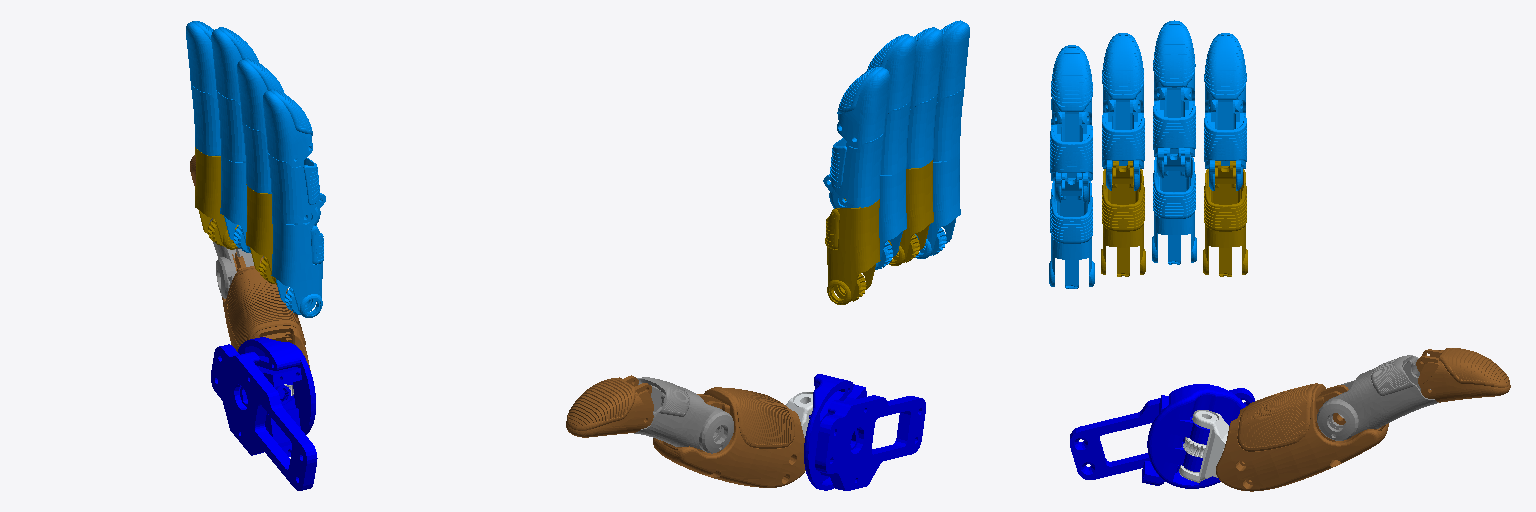
--- What the picture shows (computed from the rendered views, not written in the file) ---
Views: 3 orthographic renders of the robot side by side, from view 1: azimuth 30°, elevation 25°; view 2: azimuth 150°, elevation 25°; view 3: azimuth 270°, elevation 25°.
Robot: linkerhand_O7_right.urdf — 18 links, 17 joints (17 revolute); root link hand_base_link; default pose: all joints at 0.
Links seen in each view (by area): view 1: thumb_metacarpals_base1, thumb_metacarpals, pinky_proximal, pinky_middle, pinky_distal, index_proximal, middle_proximal, ring_proximal, ring_distal, middle_distal, index_distal, index_middle (+3 smaller); view 2: thumb_metacarpals_base1, thumb_metacarpals, index_proximal, thumb_proximal, thumb_distal, index_middle, index_distal, ring_proximal, pinky_proximal, middle_proximal, middle_distal, pinky_distal (+5 smaller); view 3: thumb_metacarpals, thumb_metacarpals_base1, thumb_proximal, thumb_distal, pinky_proximal, middle_proximal, index_proximal, ring_proximal, pinky_middle, index_middle, ring_middle, middle_middle (+5 smaller).
Boxes of the visible links, x1,y1,x2,y2 form: thumb_metacarpals_base1: (211, 337, 317, 490); thumb_metacarpals: (222, 252, 310, 370); pinky_proximal: (271, 216, 323, 317); pinky_middle: (268, 153, 325, 225); pinky_distal: (263, 89, 312, 167); index_proximal: (195, 147, 238, 249); middle_proximal: (220, 154, 250, 252); ring_proximal: (246, 184, 276, 284); ring_distal: (237, 58, 284, 135); middle_distal: (211, 27, 258, 104); index_distal: (186, 21, 216, 98); index_middle: (191, 85, 220, 155); thumb_metacarpals_base1: (804, 374, 925, 490); thumb_metacarpals: (653, 387, 805, 487); index_proximal: (825, 198, 880, 304); thumb_proximal: (634, 377, 733, 453); thumb_distal: (566, 375, 653, 437); index_middle: (823, 132, 884, 208); index_distal: (837, 67, 889, 147); ring_proximal: (888, 160, 933, 265); pinky_proximal: (915, 153, 960, 258); middle_proximal: (875, 166, 906, 269); middle_distal: (866, 34, 916, 114); pinky_distal: (937, 20, 969, 101); thumb_metacarpals: (1216, 383, 1388, 491); thumb_metacarpals_base1: (1070, 384, 1254, 488); thumb_proximal: (1317, 355, 1438, 440); thumb_distal: (1416, 348, 1510, 402); pinky_proximal: (1049, 173, 1094, 288); middle_proximal: (1152, 148, 1196, 264); index_proximal: (1203, 161, 1247, 276); ring_proximal: (1101, 161, 1145, 276); pinky_middle: (1050, 112, 1092, 203); index_middle: (1204, 100, 1246, 190); ring_middle: (1102, 100, 1144, 190); middle_middle: (1153, 87, 1195, 178).
Size in the robot's own frame: 0.0734 by 0.1712 by 0.1792 metres.
Meshes: 18 distinct files referenced, 17 mesh visuals loaded (17 binary STL); not drawn: 1 (reference not matched to a file when rendering).

robot.urdf — linkerhand_O7_right.urdf:
<?xml version="1.0" encoding="utf-8"?>
<!-- This URDF was automatically created by SolidWorks to URDF Exporter! Originally created by Stephen Brawner ([email redacted]) 
     Commit Version: 1.6.0-4-g7f85cfe  Build Version: 1.6.7995.38578
     For more information, please see http://wiki.ros.org/sw_urdf_exporter -->
<robot
  name="linkerhand_O7_right.urdf">
  <link
    name="hand_base_link">
    <inertial>
      <origin
        xyz="-0.000635826168353301 0.000417450601367603 0.0808531524968522"
        rpy="0 0 0" />
      <mass
        value="0.115532510357281" />
      <inertia
        ixx="0.000103865728174833"
        ixy="4.39968674525598E-07"
        ixz="-1.9414168538026E-06"
        iyy="6.66546428907319E-05"
        iyz="-7.94731178870222E-07"
        izz="4.97086581300188E-05" />
    </inertial>
    <visual>
      <origin
        xyz="0 0 0"
        rpy="0 0 0" />
      <geometry>
        <mesh
          filename="meshes/hand_base_link.STL" />
      </geometry>
      <material
        name="">
        <color
        
          rgba="0.443137254901961 1 0.803921568627451 1" />
      </material>
    </visual>
    <collision>
      <origin
        xyz="0 0 0"
        rpy="0 0 0" />
      <geometry>
        <mesh
          filename="meshes/hand_base_link.STL" />
      </geometry>
    </collision>
  </link>
  <link
    name="thumb_metacarpals_base1">
    <inertial>
      <origin
        xyz="0.0243580400165841 -0.00531338959293788 -0.00133528896045803"
        rpy="0 0 0" />
      <mass
        value="0.0140456690808547" />
      <inertia
        ixx="4.03793977591736E-06"
        ixy="1.08071264191593E-07"
        ixz="-2.78734178260313E-08"
        iyy="1.52575111360524E-06"
        iyz="-4.92003242238468E-07"
        izz="2.85304047365918E-06" />
    </inertial>
    <visual>
      <origin
        xyz="0 0 0"
        rpy="0 0 0" />
      <geometry>
        <mesh
          filename="meshes/thumb_metacarpals_base1.STL" />
      </geometry>
      <material
        name="">
        <color
          rgba="0 0 1 1" />
      </material>
    </visual>
    <collision>
      <origin
        xyz="0 0 0"
        rpy="0 0 0" />
      <geometry>
        <mesh
          filename="meshes/thumb_metacarpals_base1.STL" />
      </geometry>
    </collision>
  </link>
  <joint
    name="thumb_cmc_roll"
    type="revolute">
    <origin
      xyz="-0.0116 0.018174 0.061651"
      rpy="0 0 0" />
    <parent
      link="hand_base_link" />
    <child
      link="thumb_metacarpals_base1" />
    <axis
      xyz="1 0 0" />
    <limit
      lower="0"
      upper="1.1339"
      effort="100"
      velocity="1" />
  </joint>
  <link
    name="thumb_metacarpals_base2">
    <inertial>
      <origin
        xyz="0.00213681318180131 0.00710763177501164 -0.000263312556487913"
        rpy="0 0 0" />
      <mass
        value="0.00582710539297639" />
      <inertia
        ixx="3.15922714505223E-07"
        ixy="-1.36533145830047E-08"
        ixz="3.23841467478572E-09"
        iyy="2.74612320744176E-07"
        iyz="1.07600446113149E-08"
        izz="1.76908032965576E-07" />
    </inertial>
    <visual>
      <origin
        xyz="0 0 0"
        rpy="0 0 0" />
      <geometry>
        <mesh
          filename="meshes/thumb_metacarpals_base2.STL" />
      </geometry>
      <material
        name="">
        <color
          rgba="0.898039215686275 0.917647058823529 0.929411764705882 1" />
      </material>
    </visual>
    <collision>
      <origin
        xyz="0 0 0"
        rpy="0 0 0" />
      <geometry>
        <mesh
          filename="meshes/thumb_metacarpals_base2.STL" />
      </geometry>
    </collision>
  </link>
  <joint
    name="thumb_cmc_yaw"
    type="revolute">
    <origin
      xyz="0.0358 -0.00065771 0.0001518"
      rpy="-0.22683 0 0" />
    <parent
      link="thumb_metacarpals_base1" />
    <child
      link="thumb_metacarpals_base2" />
    <axis
      xyz="0 0 -1" />
    <limit
      lower="0"
      upper="1.9189"
      effort="100"
      velocity="1" />
  </joint>
  <link
    name="thumb_metacarpals">
    <inertial>
      <origin
        xyz="0.00183660291644091 -2.80954450064368E-06 0.0269905349664822"
        rpy="0 0 0" />
      <mass
        value="0.0152012310446388" />
      <inertia
        ixx="2.95371796729834E-06"
        ixy="5.99361199100948E-11"
        ixz="1.58081124829418E-07"
        iyy="3.84772219086697E-06"
        iyz="4.18612084772858E-10"
        izz="1.32007529685639E-06" />
    </inertial>
    <visual>
      <origin
        xyz="0 0 0"
        rpy="0 0 0" />
      <geometry>
        <mesh
          filename="meshes/thumb_metacarpals.STL" />
      </geometry>
      <material
        name="">
        <color
          rgba="0.6 0.4 0.2 1" />
      </material>
    </visual>
    <collision>
      <origin
        xyz="0 0 0"
        rpy="0 0 0" />
      <geometry>
        <mesh
          filename="meshes/thumb_metacarpals.STL" />
      </geometry>
    </collision>
  </link>
  <joint
    name="thumb_cmc_pitch"
    type="revolute">
    <origin
      xyz="0.00456 0.015168 -0.0019302"
      rpy="0 -0.9163 -1.8628" />
    <parent
      link="thumb_metacarpals_base2" />
    <child
      link="thumb_metacarpals" />
    <axis
      xyz="0 1 0" />
    <limit
      lower="0"
      upper="0.5146"
      effort="100"
      velocity="1" />
  </joint>
  <link
    name="thumb_proximal">
    <inertial>
      <origin
        xyz="0.00159270655316215 -4.43144050971817E-06 0.015157347405203"
        rpy="0 0 0" />
      <mass
        value="0.00662229628279784" />
      <inertia
        ixx="1.01526863749369E-06"
        ixy="-3.34101496960627E-12"
        ixz="4.42240880925595E-08"
        iyy="9.10432361984289E-07"
        iyz="2.57876368384487E-11"
        izz="4.47462819849415E-07" />
    </inertial>
    <visual>
      <origin
        xyz="0 0 0"
        rpy="0 0 0" />
      <geometry>
        <mesh
          filename="meshes/thumb_proximal.STL" />
      </geometry>
      <material
        name="">
        <color
          rgba="0.6 0.6 0.6 1" />
      </material>
    </visual>
    <collision>
      <origin
        xyz="0 0 0"
        rpy="0 0 0" />
      <geometry>
        <mesh
          filename="meshes/thumb_proximal.STL" />
      </geometry>
    </collision>
  </link>
  <joint
    name="thumb_mcp"
    type="revolute">
    <origin
      xyz="0.0061722 0 0.047968"
      rpy="0 0 0" />
    <parent
      link="thumb_metacarpals" />
    <child
      link="thumb_proximal" />
    <axis
      xyz="0 1 0" />
    <limit
      lower="0"
      upper="0.7152"
      effort="100"
      velocity="1" />
    <mimic
      joint="thumb_cmc_pitch"
      multiplier="1.3898"
      offset="0" />
  </joint>
  <link
    name="thumb_distal">
    <inertial>
      <origin
        xyz="-0.00138915766541476 1.66356642710211E-06 0.0115789718721026"
        rpy="0 0 0" />
      <mass
        value="0.00512930046605133" />
      <inertia
        ixx="3.3096790319488E-07"
        ixy="-3.44976097634419E-10"
        ixz="1.04731224452388E-07"
        iyy="3.23805443196431E-07"
        iyz="-8.20135516212249E-11"
        izz="2.48902658161616E-07" />
    </inertial>
    <visual>
      <origin
        xyz="0 0 0"
        rpy="0 0 0" />
      <geometry>
        <mesh
          filename="meshes/thumb_distal.STL" />
      </geometry>
      <material
        name="">
        <color
          rgba="0.6 0.4 0.2 1" />
      </material>
    </visual>
    <collision>
      <origin
        xyz="0 0 0"
        rpy="0 0 0" />
      <geometry>
        <mesh
          filename="meshes/thumb_distal.STL" />
      </geometry>
    </collision>
  </link>
  <joint
    name="thumb_ip"
    type="revolute">
    <origin
      xyz="-0.00017064 0 0.038665"
      rpy="0 0 0" />
    <parent
      link="thumb_proximal" />
    <child
      link="thumb_distal" />
    <axis
      xyz="0 1 0" />
    <limit
      lower="0"
      upper="0.7763"
      effort="100"
      velocity="1" />
    <mimic
      joint="thumb_cmc_pitch"
      multiplier="1.5085"
      offset="0" />
  </joint>
  <link
    name="index_proximal">
    <inertial>
      <origin
        xyz="-0.000134757090763184 1.17149846208878E-06 0.0104816315652075"
        rpy="0 0 0" />
      <mass
        value="0.00654982590538705" />
      <inertia
        ixx="4.4387863322219E-07"
        ixy="-3.43445484515311E-12"
        ixz="2.49386934436226E-08"
        iyy="4.58697796485196E-07"
        iyz="-8.5260366069422E-11"
        izz="1.74228691388322E-07" />
    </inertial>
    <visual>
      <origin
        xyz="0 0 0"
        rpy="0 0 0" />
      <geometry>
        <mesh
          filename="meshes/index_proximal.STL" />
      </geometry>
      <material
        name="">
        <color
          rgba="0.647058823529412 0.517647058823529 0 1" />
      </material>
    </visual>
    <collision>
      <origin
        xyz="0 0 0"
        rpy="0 0 0" />
      <geometry>
        <mesh
          filename="meshes/index_proximal.STL" />
      </geometry>
    </collision>
  </link>
  <joint
    name="index_mcp_pitch"
    type="revolute">
    <origin
      xyz="0.0022097 0.027177 0.12685"
      rpy="0 0 0" />
    <parent
      link="hand_base_link" />
    <child
      link="index_proximal" />
    <axis
      xyz="0 1 0" />
    <limit
      lower="0"
      upper="1.3607"
      effort="100"
      velocity="1" />
  </joint>
  <link
    name="index_middle">
    <inertial>
      <origin
        xyz="-0.00252078721834403 -2.09523372295822E-06 0.0110357108291392"
        rpy="0 0 0" />
      <mass
        value="0.00283043635989883" />
      <inertia
        ixx="2.60908300266926E-07"
        ixy="5.7696257053499E-11"
        ixz="4.02267180695591E-08"
        iyy="2.33077671334714E-07"
        iyz="-2.96096272337229E-11"
        izz="1.26672570359698E-07" />
    </inertial>
    <visual>
      <origin
        xyz="0 0 0"
        rpy="0 0 0" />
      <geometry>
        <mesh
          filename="meshes/index_middle.STL" />
      </geometry>
      <material
        name="">
        <color
          rgba="0 0.6 1 1" />
      </material>
    </visual>
    <collision>
      <origin
        xyz="0 0 0"
        rpy="0 0 0" />
      <geometry>
        <mesh
          filename="meshes/index_middle.STL" />
      </geometry>
    </collision>
  </link>
  <joint
    name="index_pip"
    type="revolute">
    <origin
      xyz="-0.0010861 0 0.035634"
      rpy="0 0 0" />
    <parent
      link="index_proximal" />
    <child
      link="index_middle" />
    <axis
      xyz="0 1 0" />
    <limit
      lower="0"
      upper="1.8317"
      effort="100"
      velocity="1" />
    <mimic
      joint="index_mcp_pitch"
      multiplier="1.3462"
      offset="0" />
  </joint>
  <link
    name="index_distal">
    <inertial>
      <origin
        xyz="-0.000622482641131194 5.23441917530537E-06 0.0121505004635115"
        rpy="0 0 0" />
      <mass
        value="0.00314458616089874" />
      <inertia
        ixx="1.63947556753414E-07"
        ixy="1.81403035449352E-11"
        ixz="4.28773356106629E-08"
        iyy="1.48366028231131E-07"
        iyz="-2.02915923098469E-10"
        izz="9.79320068649637E-08" />
    </inertial>
    <visual>
      <origin
        xyz="0 0 0"
        rpy="0 0 0" />
      <geometry>
        <mesh
          filename="meshes/index_distal.STL" />
      </geometry>
      <material
        name="">
        <color
          rgba="0 0.6 1 1" />
      </material>
    </visual>
    <collision>
      <origin
        xyz="0 0 0"
        rpy="0 0 0" />
      <geometry>
        <mesh
          filename="meshes/index_distal.STL" />
      </geometry>
    </collision>
  </link>
  <joint
    name="index_dip"
    type="revolute">
    <origin
      xyz="-0.0052857 0 0.025703"
      rpy="0 0 0" />
    <parent
      link="index_middle" />
    <child
      link="index_distal" />
    <axis
      xyz="0 1 0" />
    <limit
      lower="0"
      upper="0.638"
      effort="100"
      velocity="1" />
    <mimic
      joint="index_mcp_pitch"
      multiplier="0.4615"
      offset="0" />
  </joint>
  <link
    name="middle_proximal">
    <inertial>
      <origin
        xyz="-0.000134759525542065 1.17052495086315E-06 0.0104816256254227"
        rpy="0 0 0" />
      <mass
        value="0.00654982976492332" />
      <inertia
        ixx="4.43878677686474E-07"
        ixy="-3.46899475635862E-12"
        ixz="2.49386340433594E-08"
        iyy="4.58697936345066E-07"
        iyz="-8.52796735517462E-11"
        izz="1.74228809222635E-07" />
    </inertial>
    <visual>
      <origin
        xyz="0 0 0"
        rpy="0 0 0" />
      <geometry>
        <mesh
          filename="meshes/middle_proximal.STL" />
      </geometry>
      <material
        name="">
        <color
          rgba="0 0.6 1 1" />
      </material>
    </visual>
    <collision>
      <origin
        xyz="0 0 0"
        rpy="0 0 0" />
      <geometry>
        <mesh
          filename="meshes/middle_proximal.STL" />
      </geometry>
    </collision>
  </link>
  <joint
    name="middle_mcp_pitch"
    type="revolute">
    <origin
      xyz="0.0022097 0.0081771 0.13185"
      rpy="0 0 0" />
    <parent
      link="hand_base_link" />
    <child
      link="middle_proximal" />
    <axis
      xyz="0 1 0" />
    <limit
      lower="0"
      upper="1.3607"
      effort="100"
      velocity="1" />
  </joint>
  <link
    name="middle_middle">
    <inertial>
      <origin
        xyz="-0.00252078721834716 -2.09523371817646E-06 0.011035710829132"
        rpy="0 0 0" />
      <mass
        value="0.00283043635989613" />
      <inertia
        ixx="2.60908300266734E-07"
        ixy="5.76962570849924E-11"
        ixz="4.02267180699163E-08"
        iyy="2.33077671334844E-07"
        iyz="-2.96096272996086E-11"
        izz="1.26672570359912E-07" />
    </inertial>
    <visual>
      <origin
        xyz="0 0 0"
        rpy="0 0 0" />
      <geometry>
        <mesh
          filename="meshes/middle_middle.STL" />
      </geometry>
      <material
        name="">
        <color
          rgba="0 0.6 1 1" />
      </material>
    </visual>
    <collision>
      <origin
        xyz="0 0 0"
        rpy="0 0 0" />
      <geometry>
        <mesh
          filename="meshes/middle_middle.STL" />
      </geometry>
    </collision>
  </link>
  <joint
    name="middle_pip"
    type="revolute">
    <origin
      xyz="-0.0010861 0 0.035634"
      rpy="0 0 0" />
    <parent
      link="middle_proximal" />
    <child
      link="middle_middle" />
    <axis
      xyz="0 1 0" />
    <limit
      lower="0"
      upper="1.8317"
      effort="100"
      velocity="1" />
    <mimic
      joint="middle_mcp_pitch"
      multiplier="1.3462"
      offset="0" />
  </joint>
  <link
    name="middle_distal">
    <inertial>
      <origin
        xyz="-0.000622482698909851 5.23446393570041E-06 0.0121505005518132"
        rpy="0 0 0" />
      <mass
        value="0.00314458619941957" />
      <inertia
        ixx="1.63947561150062E-07"
        ixy="1.81411847381583E-11"
        ixz="4.28773369786875E-08"
        iyy="1.48366032281885E-07"
        iyz="-2.0291733623418E-10"
        izz="9.79320086242323E-08" />
    </inertial>
    <visual>
      <origin
        xyz="0 0 0"
        rpy="0 0 0" />
      <geometry>
        <mesh
          filename="meshes/middle_distal.STL" />
      </geometry>
      <material
        name="">
        <color
          rgba="0 0.6 1 1" />
      </material>
    </visual>
    <collision>
      <origin
        xyz="0 0 0"
        rpy="0 0 0" />
      <geometry>
        <mesh
          filename="meshes/middle_distal.STL" />
      </geometry>
    </collision>
  </link>
  <joint
    name="middle_dip"
    type="revolute">
    <origin
      xyz="-0.0052857 0 0.025703"
      rpy="0 0 0" />
    <parent
      link="middle_middle" />
    <child
      link="middle_distal" />
    <axis
      xyz="0 1 0" />
    <limit
      lower="0"
      upper="0.628"
      effort="100"
      velocity="1" />
    <mimic
      joint="middle_mcp_pitch"
      multiplier="0.4615"
      offset="0" />
  </joint>
  <link
    name="ring_proximal">
    <inertial>
      <origin
        xyz="-0.000134757090654265 1.17149840283062E-06 0.0104816315647394"
        rpy="0 0 0" />
      <mass
        value="0.00654982590560025" />
      <inertia
        ixx="4.43878633229728E-07"
        ixy="-3.43445465421392E-12"
        ixz="2.4938693441459E-08"
        iyy="4.58697796493645E-07"
        iyz="-8.52603686928918E-11"
        izz="1.74228691390674E-07" />
    </inertial>
    <visual>
      <origin
        xyz="0 0 0"
        rpy="0 0 0" />
      <geometry>
        <mesh
          filename="meshes/ring_proximal.STL" />
      </geometry>
      <material
        name="">
        <color
          rgba="0.647058823529412 0.517647058823529 0 1" />
      </material>
    </visual>
    <collision>
      <origin
        xyz="0 0 0"
        rpy="0 0 0" />
      <geometry>
        <mesh
          filename="meshes/ring_proximal.STL" />
      </geometry>
    </collision>
  </link>
  <joint
    name="ring_mcp_pitch"
    type="revolute">
    <origin
      xyz="0.0022097 -0.010823 0.12685"
      rpy="0 0 0" />
    <parent
      link="hand_base_link" />
    <child
      link="ring_proximal" />
    <axis
      xyz="0 1 0" />
    <limit
      lower="0"
      upper="1.3607"
      effort="100"
      velocity="1" />
  </joint>
  <link
    name="ring_middle">
    <inertial>
      <origin
        xyz="-0.00252078721834402 -2.09523372298771E-06 0.0110357108291391"
        rpy="0 0 0" />
      <mass
        value="0.00283043635989883" />
      <inertia
        ixx="2.60908300267002E-07"
        ixy="5.76962570507088E-11"
        ixz="4.02267180695887E-08"
        iyy="2.3307767133472E-07"
        iyz="-2.96096272352501E-11"
        izz="1.26672570359684E-07" />
    </inertial>
    <visual>
      <origin
        xyz="0 0 0"
        rpy="0 0 0" />
      <geometry>
        <mesh
          filename="meshes/ring_middle.STL" />
      </geometry>
      <material
        name="">
        <color
          rgba="0 0.6 1 1" />
      </material>
    </visual>
    <collision>
      <origin
        xyz="0 0 0"
        rpy="0 0 0" />
      <geometry>
        <mesh
          filename="meshes/ring_middle.STL" />
      </geometry>
    </collision>
  </link>
  <joint
    name="ring_pip"
    type="revolute">
    <origin
      xyz="-0.0010861 0 0.035634"
      rpy="0 0 0" />
    <parent
      link="ring_proximal" />
    <child
      link="ring_middle" />
    <axis
      xyz="0 1 0" />
    <limit
      lower="0"
      upper="1.8317"
      effort="100"
      velocity="1" />
    <mimic
      joint="ring_mcp_pitch"
      multiplier="1.3462"
      offset="0" />
  </joint>
  <link
    name="ring_distal">
    <inertial>
      <origin
        xyz="-0.000622482751969862 5.23452612019235E-06 0.0121505007069385"
        rpy="0 0 0" />
      <mass
        value="0.00314458625244518" />
      <inertia
        ixx="1.63947569170933E-07"
        ixy="1.8141909382519E-11"
        ixz="4.2877338243586E-08"
        iyy="1.48366039100571E-07"
        iyz="-2.0291967138065E-10"
        izz="9.79320099040398E-08" />
    </inertial>
    <visual>
      <origin
        xyz="0 0 0"
        rpy="0 0 0" />
      <geometry>
        <mesh
          filename="meshes/ring_distal.STL" />
      </geometry>
      <material
        name="">
        <color
          rgba="0 0.6 1 1" />
      </material>
    </visual>
    <collision>
      <origin
        xyz="0 0 0"
        rpy="0 0 0" />
      <geometry>
        <mesh
          filename="meshes/ring_distal.STL" />
      </geometry>
    </collision>
  </link>
  <joint
    name="ring_dip"
    type="revolute">
    <origin
      xyz="-0.0052857 0 0.025703"
      rpy="0 0 0" />
    <parent
      link="ring_middle" />
    <child
      link="ring_distal" />
    <axis
      xyz="0 1 0" />
    <limit
      lower="0"
      upper="0.628"
      effort="100"
      velocity="1" />
    <mimic
      joint="ring_mcp_pitch"
      multiplier="0.4615"
      offset="0" />
  </joint>
  <link
    name="pinky_proximal">
    <inertial>
      <origin
        xyz="-0.000134757090711979 1.17149839997527E-06 0.0104816315647464"
        rpy="0 0 0" />
      <mass
        value="0.00654982590561137" />
      <inertia
        ixx="4.43878633231969E-07"
        ixy="-3.43445483922012E-12"
        ixz="2.49386934439635E-08"
        iyy="4.58697796494382E-07"
        iyz="-8.52603686898309E-11"
        izz="1.7422869138941E-07" />
    </inertial>
    <visual>
      <origin
        xyz="0 0 0"
        rpy="0 0 0" />
      <geometry>
        <mesh
          filename="meshes/pinky_proximal.STL" />
      </geometry>
      <material
        name="">
        <color
          rgba="0 0.6 1 1" />
      </material>
    </visual>
    <collision>
      <origin
        xyz="0 0 0"
        rpy="0 0 0" />
      <geometry>
        <mesh
          filename="meshes/pinky_proximal.STL" />
      </geometry>
    </collision>
  </link>
  <joint
    name="pinky_mcp_pitch"
    type="revolute">
    <origin
      xyz="0.0022097 -0.029823 0.12185"
      rpy="0 0 0" />
    <parent
      link="hand_base_link" />
    <child
      link="pinky_proximal" />
    <axis
      xyz="0 1 0" />
    <limit
      lower="0"
      upper="1.3607"
      effort="100"
      velocity="1" />
  </joint>
  <link
    name="pinky_middle">
    <inertial>
      <origin
        xyz="-0.00252078721834405 -2.09523372298598E-06 0.0110357108291391"
        rpy="0 0 0" />
      <mass
        value="0.00283043635989883" />
      <inertia
        ixx="2.60908300266976E-07"
        ixy="5.76962570611223E-11"
        ixz="4.02267180695593E-08"
        iyy="2.33077671334709E-07"
        iyz="-2.96096272324504E-11"
        izz="1.26672570359743E-07" />
    </inertial>
    <visual>
      <origin
        xyz="0 0 0"
        rpy="0 0 0" />
      <geometry>
        <mesh
          filename="meshes/pinky_middle.STL" />
      </geometry>
      <material
        name="">
        <color
          rgba="0 0.6 1 1" />
      </material>
    </visual>
    <collision>
      <origin
        xyz="0 0 0"
        rpy="0 0 0" />
      <geometry>
        <mesh
          filename="meshes/pinky_middle.STL" />
      </geometry>
    </collision>
  </link>
  <joint
    name="pinky_pip"
    type="revolute">
    <origin
      xyz="-0.0010861 0 0.035634"
      rpy="0 0 0" />
    <parent
      link="pinky_proximal" />
    <child
      link="pinky_middle" />
    <axis
      xyz="0 1 0" />
    <limit
      lower="0"
      upper="1.8317"
      effort="100"
      velocity="1" />
    <mimic
      joint="pinky_mcp_pitch"
      multiplier="1.3462"
      offset="0" />
  </joint>
  <link
    name="pinky_distal">
    <inertial>
      <origin
        xyz="-0.000622482885686896 5.23444063671441E-06 0.0121505009269268"
        rpy="0 0 0" />
      <mass
        value="0.00314458634356863" />
      <inertia
        ixx="1.63947580158185E-07"
        ixy="1.8140482358719E-11"
        ixz="4.28773414343842E-08"
        iyy="1.4836604901918E-07"
        iyz="-2.02917234249237E-10"
        izz="9.79320135710845E-08" />
    </inertial>
    <visual>
      <origin
        xyz="0 0 0"
        rpy="0 0 0" />
      <geometry>
        <mesh
          filename="meshes/pinky_distal.STL" />
      </geometry>
      <material
        name="">
        <color
          rgba="0 0.6 1 1" />
      </material>
    </visual>
    <collision>
      <origin
        xyz="0 0 0"
        rpy="0 0 0" />
      <geometry>
        <mesh
          filename="meshes/pinky_distal.STL" />
      </geometry>
    </collision>
  </link>
  <joint
    name="pinky_dip"
    type="revolute">
    <origin
      xyz="-0.0052857 0 0.025703"
      rpy="0 0 0" />
    <parent
      link="pinky_middle" />
    <child
      link="pinky_distal" />
    <axis
      xyz="0 1 0" />
    <limit
      lower="0"
      upper="0.628"
      effort="100"
      velocity="1" />
    <mimic
      joint="pinky_mcp_pitch"
      multiplier="0.4615"
      offset="0" />
  </joint>
</robot>
